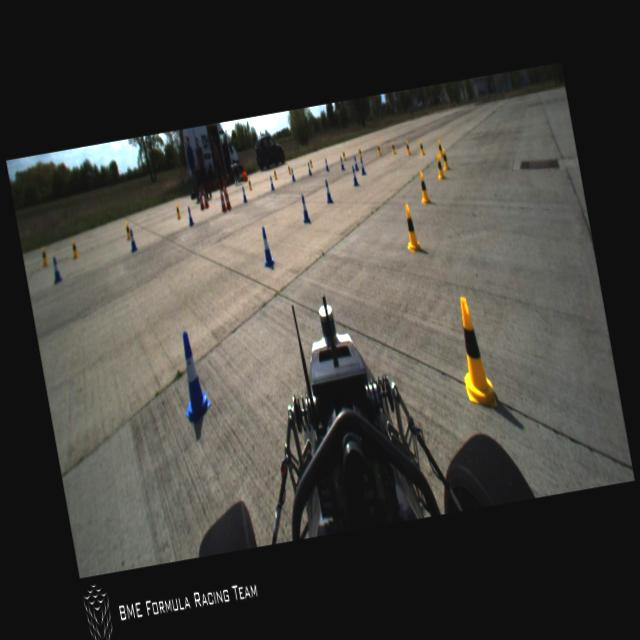blue_cone: (171, 329, 214, 425), (258, 228, 274, 266), (50, 256, 61, 284), (299, 195, 310, 222), (323, 178, 333, 204), (127, 228, 137, 252), (350, 164, 358, 186), (186, 206, 193, 226), (240, 186, 248, 203), (352, 155, 360, 171), (359, 157, 366, 175), (338, 155, 344, 171), (290, 167, 296, 183), (268, 176, 274, 192), (306, 162, 312, 176), (324, 157, 329, 171)
large_orange_cone: (222, 184, 231, 210), (218, 184, 226, 212), (200, 184, 208, 207), (197, 185, 204, 210)
yellow_cone: (450, 294, 498, 410), (401, 202, 422, 253), (416, 170, 430, 204), (434, 153, 444, 180), (440, 146, 450, 172), (38, 245, 48, 267), (69, 238, 78, 257), (124, 221, 132, 240), (436, 138, 443, 158), (174, 202, 182, 218), (418, 140, 424, 156), (404, 138, 410, 154), (390, 140, 396, 154), (246, 176, 252, 190), (272, 167, 278, 180), (286, 162, 292, 175), (376, 142, 381, 156), (342, 148, 346, 162), (358, 146, 362, 158), (308, 157, 312, 168)
